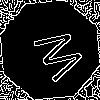W: (25, 25, 87, 88)
